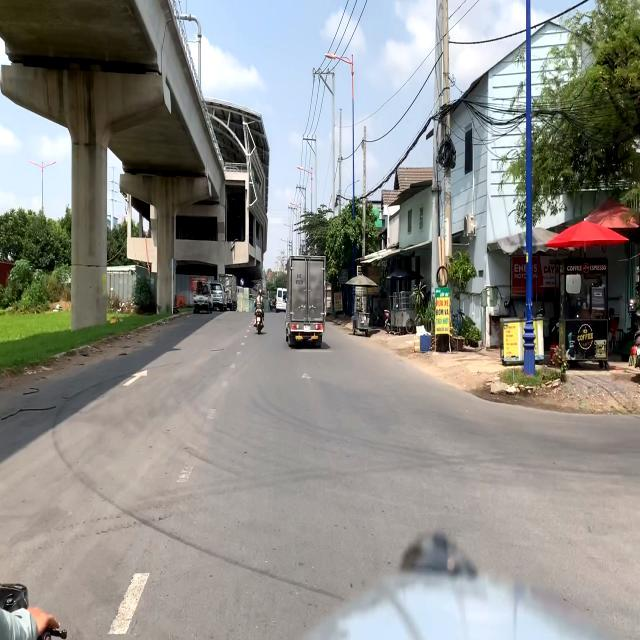Vong chuong ngai vat sang phai: (240, 278, 244, 287)
